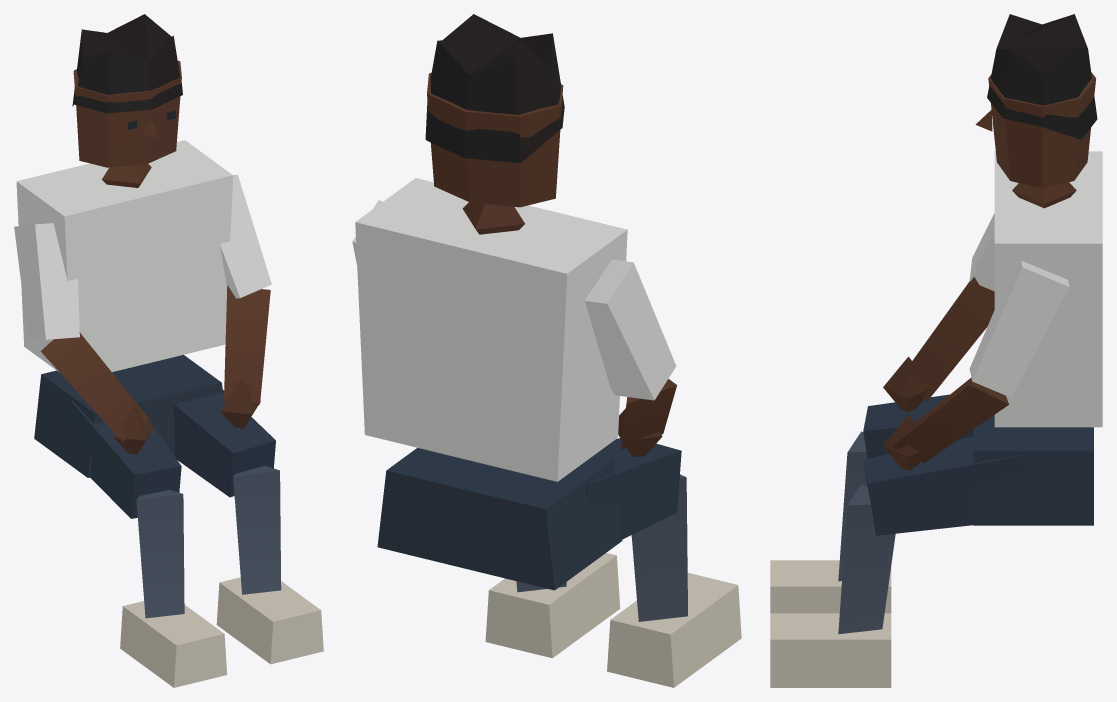
The model's file is fan-04.glb.
The picture shows the model from 3 angles, left to right: view 1: azimuth 30°, elevation 25°; view 2: azimuth 150°, elevation 25°; view 3: azimuth 270°, elevation 25°; orthographic projection. The views are drawn at different scales.
Parts seen in each view (by area): view 1: fan-04; view 2: fan-04; view 3: fan-04.
Part boxes in pixels (x1,y1,x2,y2): fan-04: (14, 14, 323, 687); fan-04: (352, 14, 741, 687); fan-04: (770, 14, 1102, 687).
Bounding box in the file's own units: 0.6875 × 1.57 × 0.77.
